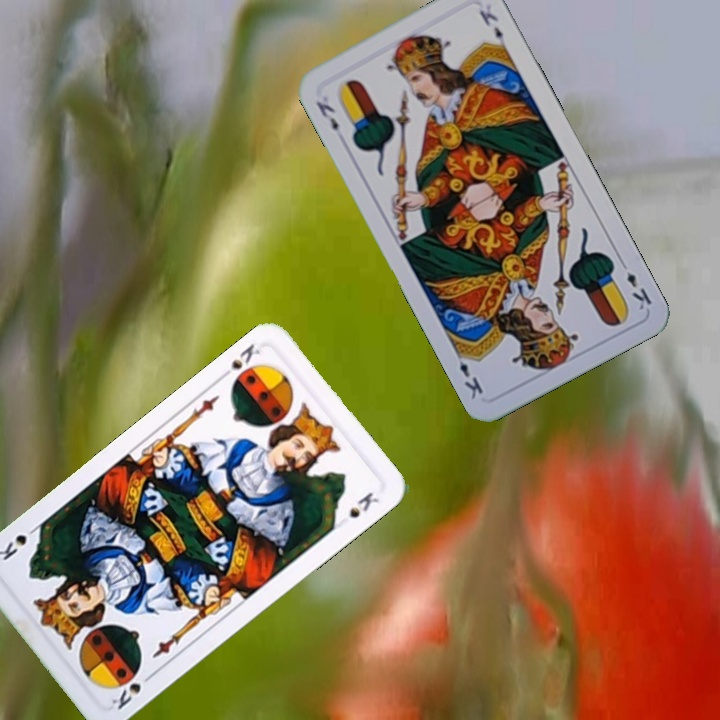EK: (616, 256, 655, 313), (311, 97, 341, 134)
SK: (107, 668, 157, 713), (216, 340, 263, 383)
